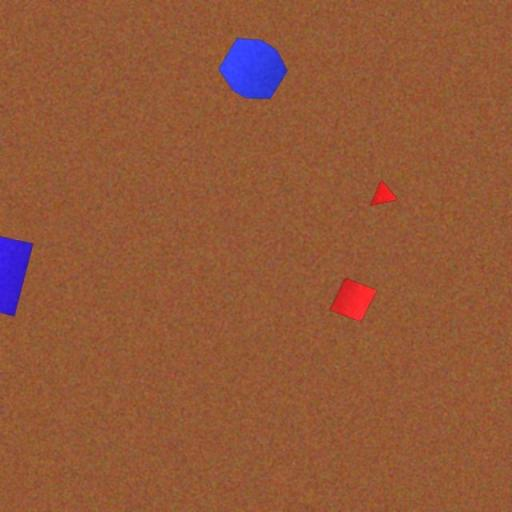BLUE_SQUARE: (0, 228, 34, 318)
RED_SQUARE: (329, 277, 378, 322)
